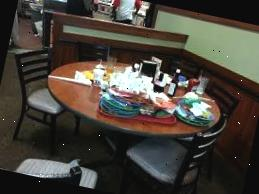Messy Table: (9, 32, 244, 182)
